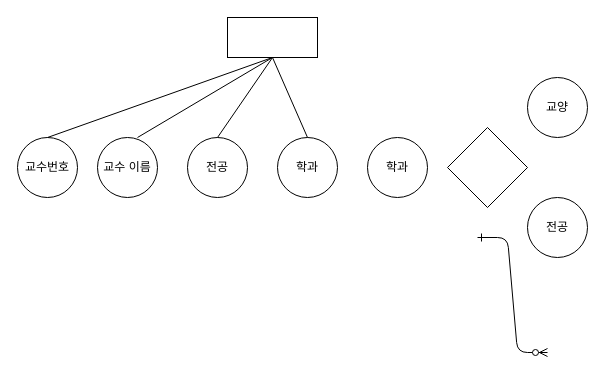
The diagram is 605 pixels wide and 379 high, and some of its shapes have lost their labels. Each missing label, with the centre of its shape:
"강의" goes at pixel 487 167.
"교수" goes at pixel 272 37.
